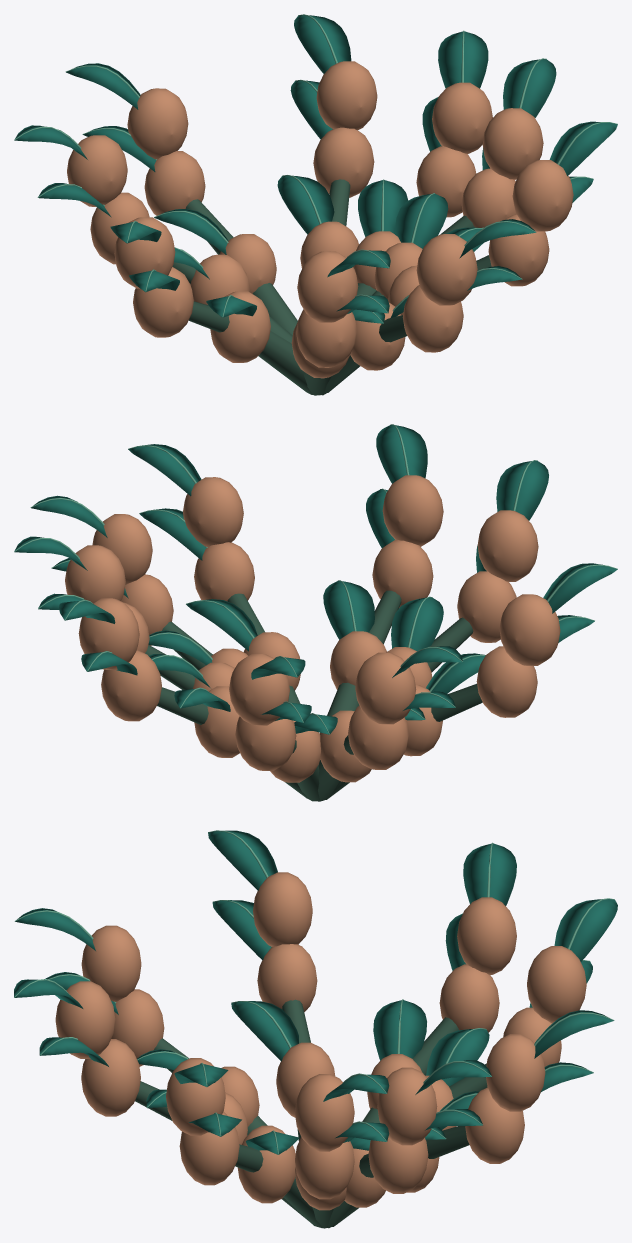
The model's file is thalassa_bladderwrack.glb.
3 views of the same model, one above another, from view 1: azimuth 30°, elevation 25°; view 2: azimuth 150°, elevation 25°; view 3: azimuth 270°, elevation 25° (orthographic). The views are drawn at different scales.
Parts seen in each view (by area): view 1: thalassa_bladderwrack; view 2: thalassa_bladderwrack; view 3: thalassa_bladderwrack.
Boxes of the visible parts, left/top/right/bottom form: thalassa_bladderwrack: left=14, top=14, right=617, bottom=395; thalassa_bladderwrack: left=14, top=424, right=617, bottom=801; thalassa_bladderwrack: left=14, top=830, right=617, bottom=1228.
Bounding box in the file's own units: 10.99 × 5.31 × 10.7.
